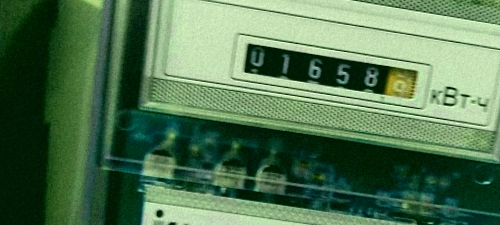0: (247, 44, 267, 67)
1: (276, 49, 294, 75)
5: (333, 60, 353, 86)
6: (305, 54, 326, 81)
8: (361, 64, 381, 88)
9: (389, 76, 408, 99)
screen: (225, 27, 437, 114)
